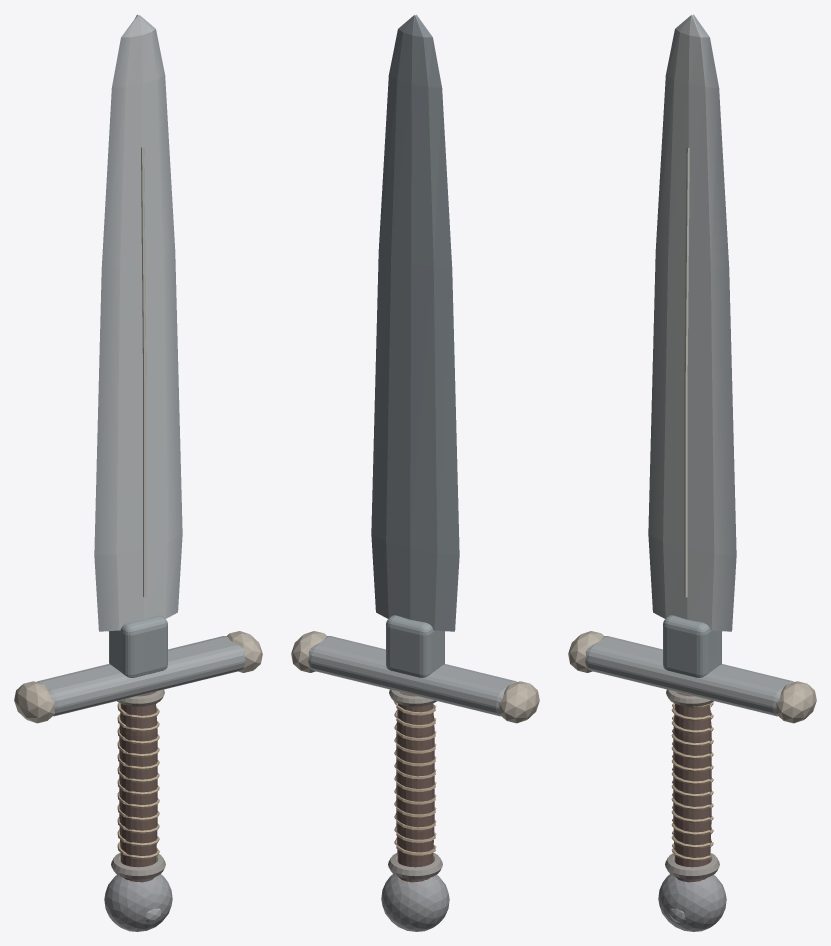
Rendered from zwaard.glb.
The picture shows the model from 3 angles, left to right: view 1: azimuth 30°, elevation 25°; view 2: azimuth 150°, elevation 25°; view 3: azimuth 330°, elevation 25°; orthographic projection.
Parts seen in each view (by area): view 1: zwaard; view 2: zwaard; view 3: zwaard.
Boxes of the visible parts, x1=… form: zwaard: x1=14, y1=14, x2=262, y2=931; zwaard: x1=291, y1=14, x2=539, y2=931; zwaard: x1=568, y1=14, x2=816, y2=931.
Bounding box in the file's own units: 0.26 × 0.95 × 0.061.
